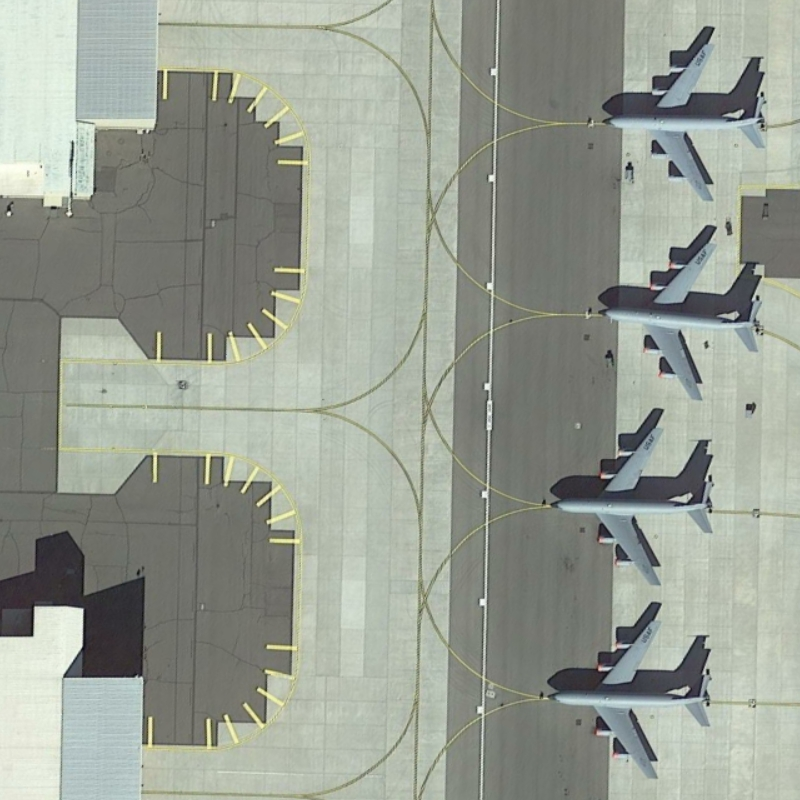A14: (592, 17, 791, 210), (591, 233, 775, 405), (546, 612, 733, 781), (554, 411, 729, 587)
